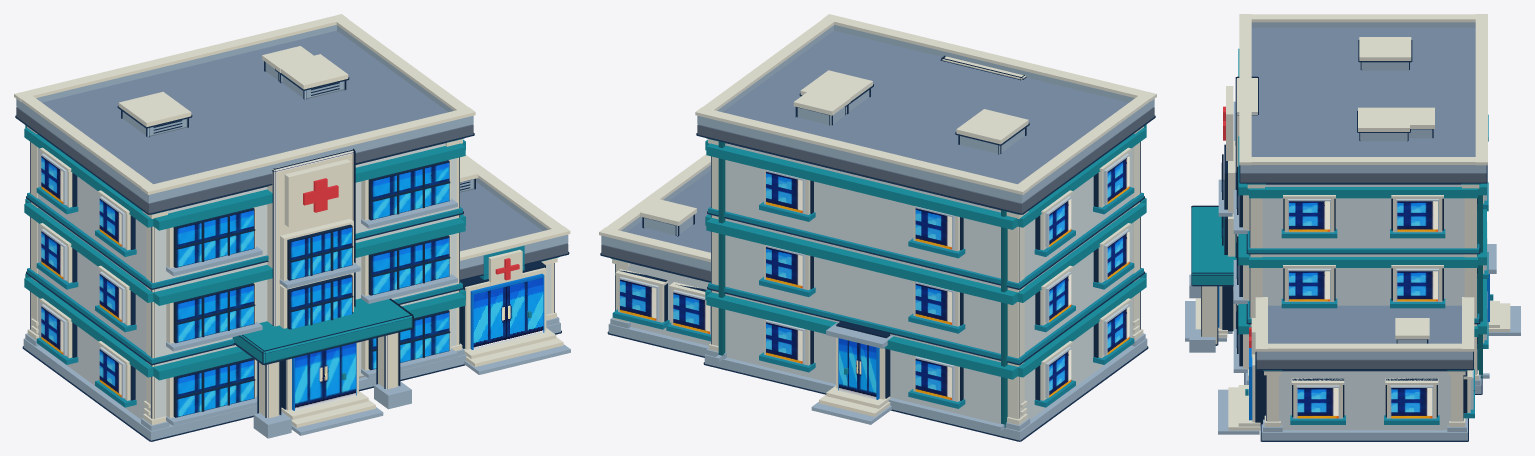
3 renders of one model, left to right at view 1: azimuth 30°, elevation 25°; view 2: azimuth 150°, elevation 25°; view 3: azimuth 270°, elevation 25°, orthographic. The views are drawn at different scales.
Parts seen in each view (by area): view 1: B03 综合医院; view 2: B03 综合医院; view 3: B03 综合医院.
Boxes of the visible parts, left/top/right/bottom form: B03 综合医院: left=14, top=14, right=570, bottom=441; B03 综合医院: left=599, top=14, right=1156, bottom=441; B03 综合医院: left=1185, top=14, right=1520, bottom=441.
Size of the model in its own units: 10.16 by 5.84 by 7.38.
Materials: 2 (1 with a texture image).
